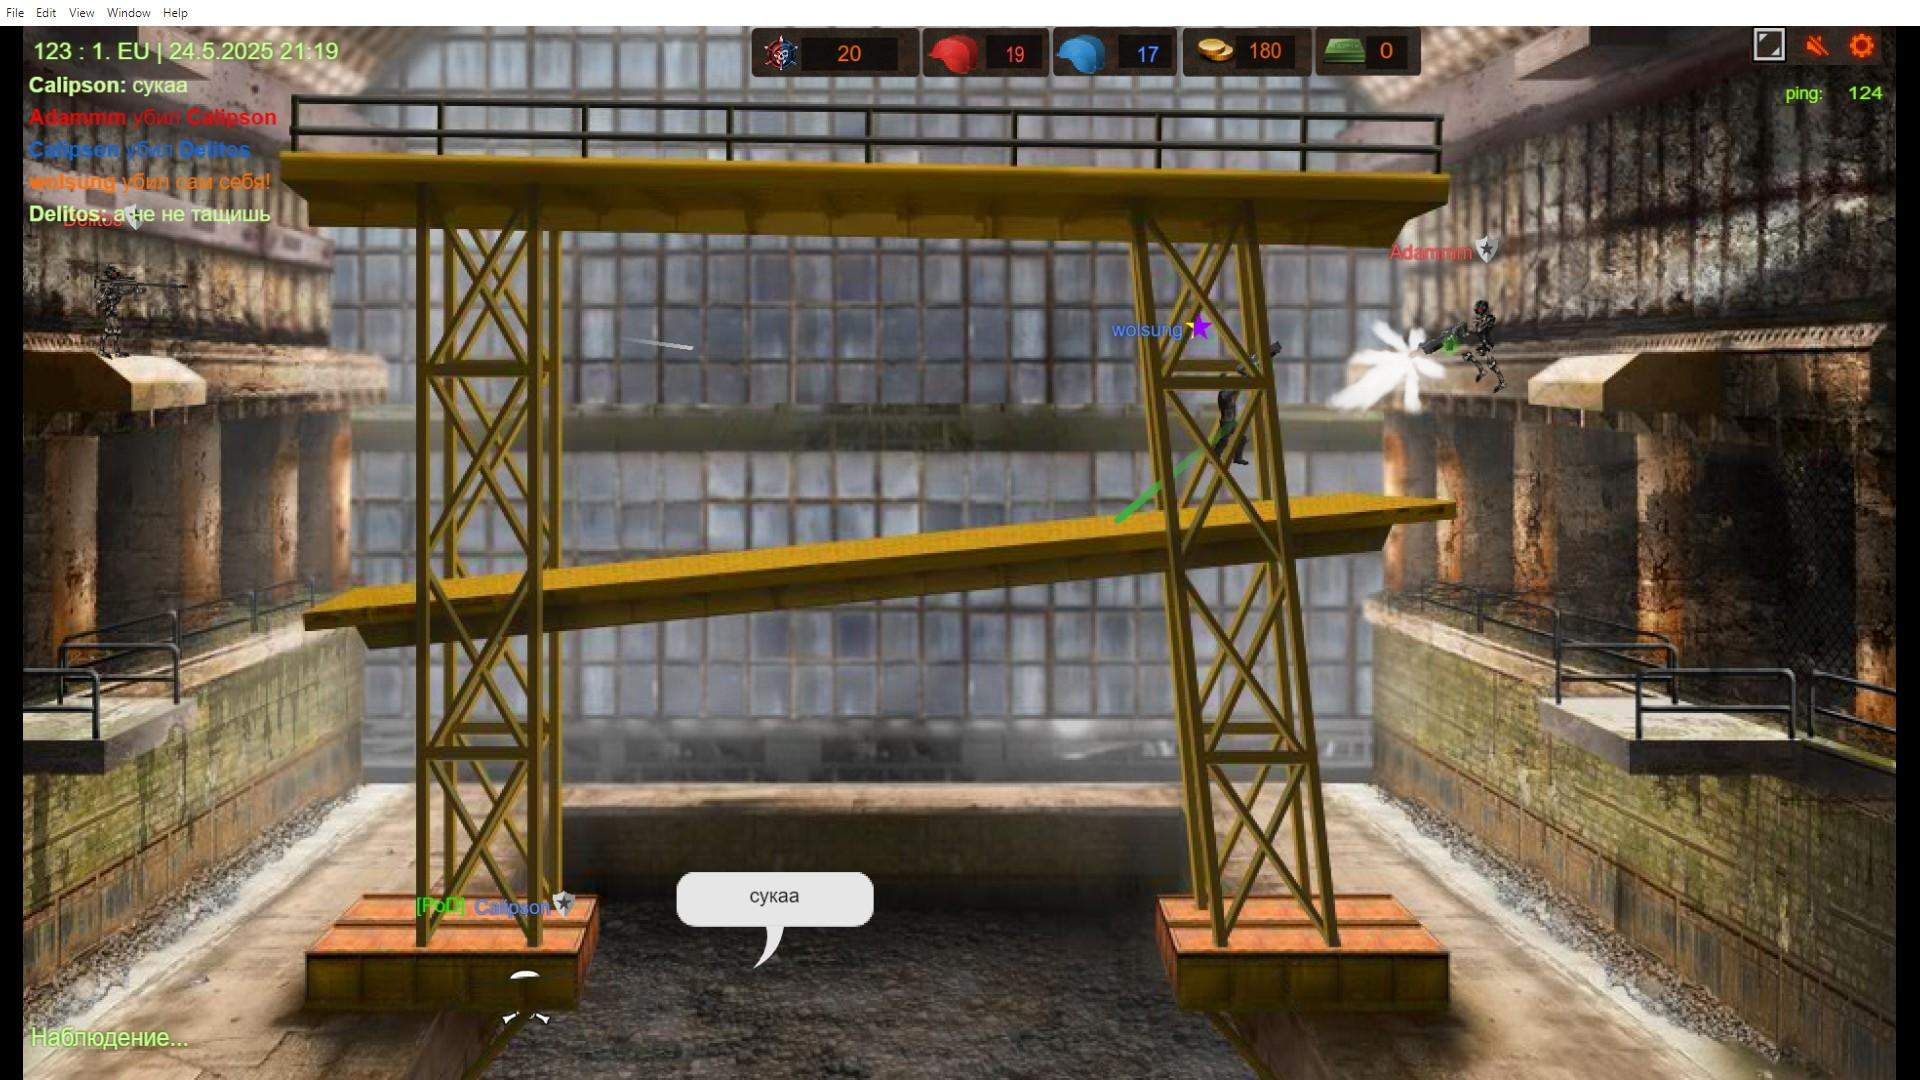enemy: (1217, 372, 1242, 467), (1473, 297, 1495, 386)
